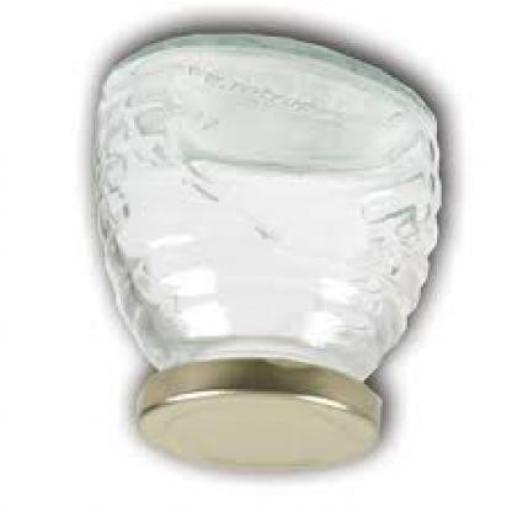glass: (91, 36, 439, 382)
metal: (134, 362, 383, 477)
